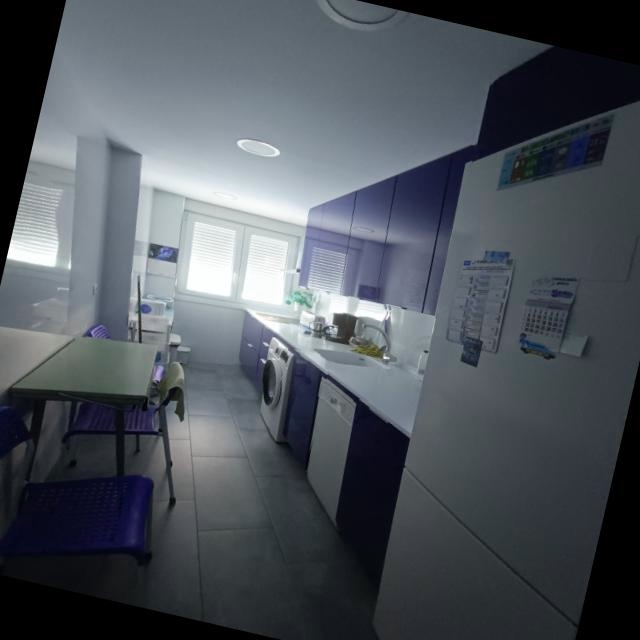cabinet: (299, 146, 475, 316), (472, 46, 640, 159), (334, 398, 410, 572), (277, 348, 323, 463), (239, 313, 274, 383)
chair: (0, 406, 153, 571), (62, 362, 184, 506), (85, 324, 112, 342), (152, 365, 165, 384)
countertop: (245, 309, 420, 430)
fridge: (371, 101, 640, 640)
shower: (313, 349, 390, 370), (362, 325, 396, 363)
sofa: (255, 313, 300, 325)
stove: (10, 337, 158, 472), (114, 409, 124, 476)
